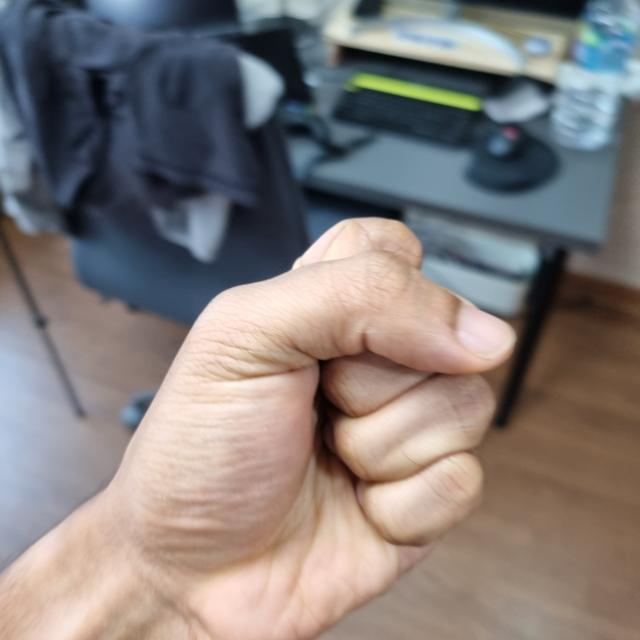Rock: (17, 221, 512, 639)
